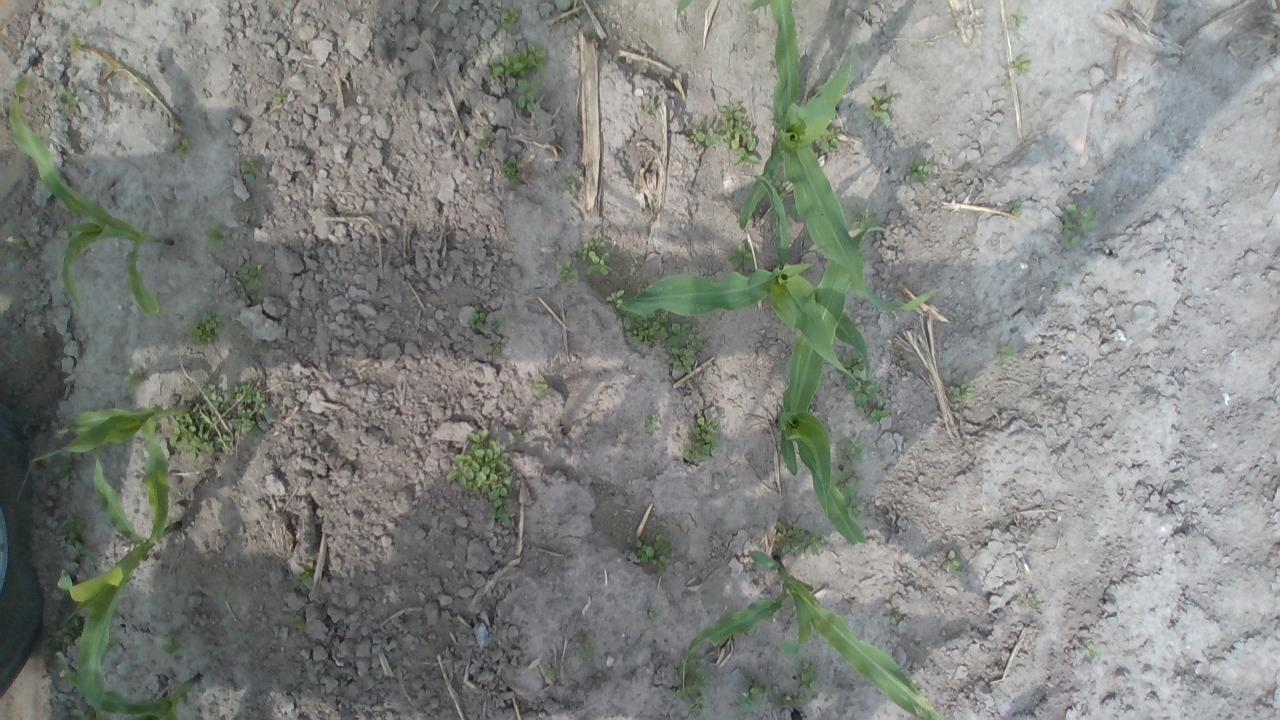Maize: (737, 0, 941, 314), (677, 551, 949, 720), (6, 70, 174, 320), (782, 226, 893, 548), (608, 256, 874, 388), (58, 454, 180, 720), (23, 407, 172, 544), (54, 649, 204, 720), (673, 0, 782, 21)
Weeds: (446, 427, 515, 527), (836, 348, 891, 424), (170, 410, 233, 461), (719, 102, 760, 166), (228, 380, 268, 441), (672, 654, 709, 716), (680, 415, 723, 466), (488, 42, 548, 78), (664, 322, 704, 374), (774, 518, 824, 554), (624, 308, 668, 348), (1059, 204, 1097, 248), (633, 532, 673, 572), (228, 260, 265, 300), (834, 470, 866, 516), (60, 516, 94, 558), (184, 312, 224, 347), (40, 448, 74, 485), (834, 435, 868, 471), (864, 87, 898, 121), (688, 120, 722, 150), (516, 78, 544, 114), (198, 382, 231, 412), (738, 678, 763, 714), (575, 232, 605, 262), (571, 630, 599, 661), (726, 243, 755, 272), (948, 376, 976, 406), (53, 616, 81, 646), (499, 154, 524, 186), (849, 202, 876, 230), (123, 366, 150, 393), (53, 84, 79, 112), (799, 659, 818, 697), (201, 223, 231, 247), (905, 159, 934, 183), (291, 560, 315, 589), (1007, 52, 1032, 78), (170, 136, 197, 160), (770, 169, 790, 201), (240, 155, 260, 186), (819, 126, 841, 154), (586, 251, 610, 276), (556, 261, 579, 285), (942, 549, 962, 575), (777, 692, 807, 709), (558, 169, 579, 192), (472, 128, 490, 154), (992, 345, 1014, 366), (500, 6, 520, 29), (70, 708, 106, 720), (466, 309, 485, 331), (66, 32, 84, 55), (162, 631, 180, 654), (1077, 642, 1102, 658), (642, 413, 662, 433), (786, 201, 805, 222), (485, 338, 507, 356), (532, 373, 548, 397), (604, 289, 624, 308), (1008, 10, 1026, 30), (646, 606, 663, 626), (489, 315, 506, 332), (644, 99, 658, 118), (1026, 592, 1040, 610), (1009, 197, 1022, 216), (294, 614, 307, 630), (888, 610, 902, 624), (512, 428, 526, 442), (546, 662, 558, 676), (1001, 76, 1012, 89), (274, 93, 286, 102), (88, 0, 100, 7), (108, 640, 117, 648), (1048, 395, 1056, 403), (1019, 0, 1028, 4)
